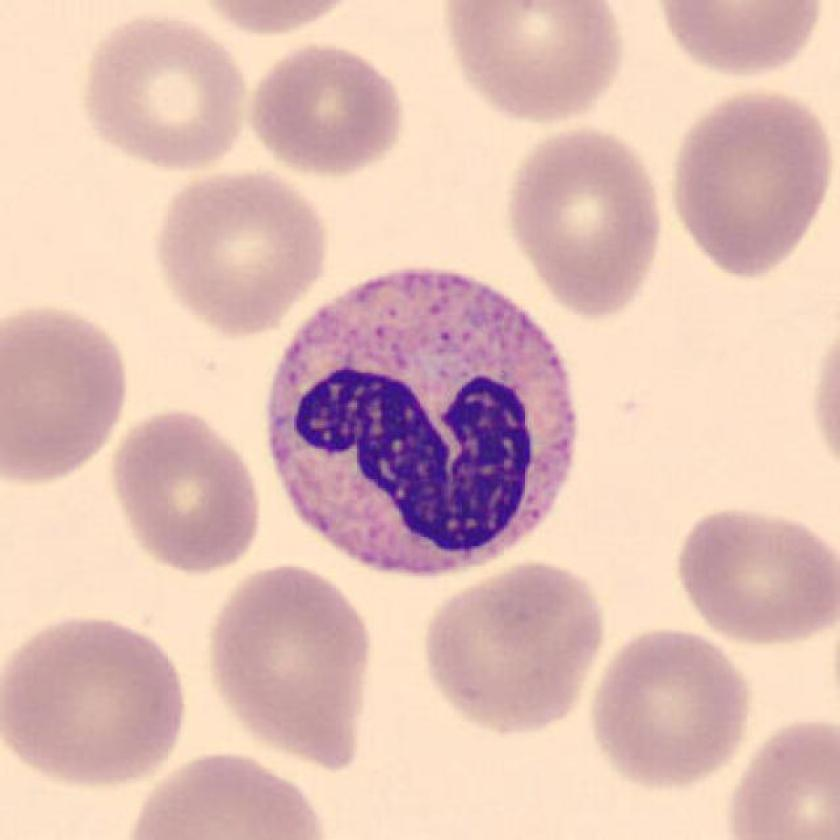neutrophil: (268, 270, 571, 572)
